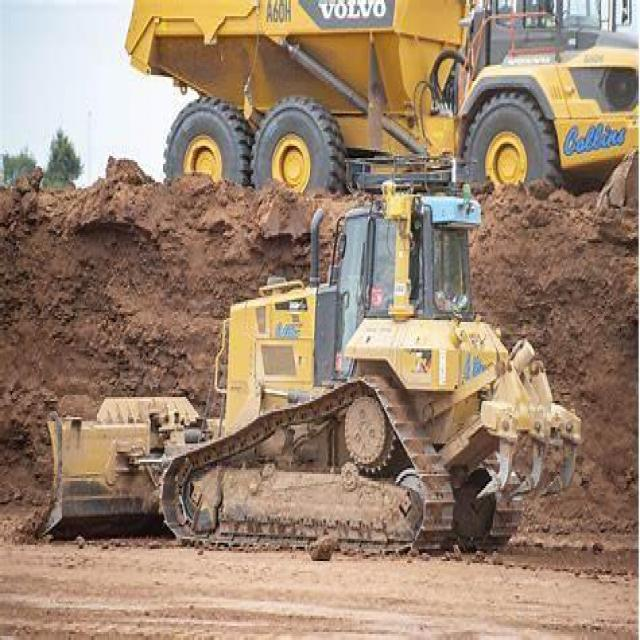Bulldozer: (43, 160, 570, 579)
Dump Truck: (121, 0, 639, 223)
